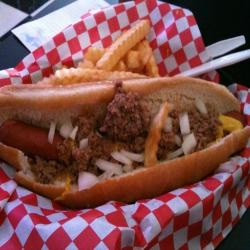fries: (70, 35, 157, 79)
hotdog: (1, 76, 249, 216)
